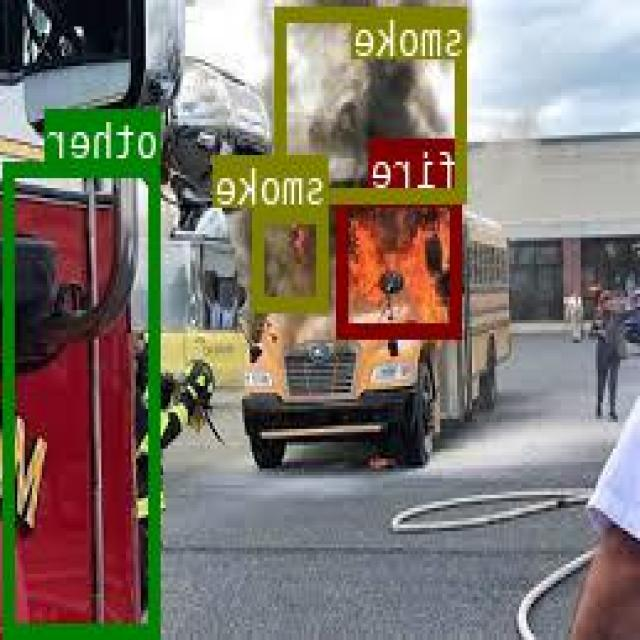fire: (339, 190, 463, 334)
other: (7, 161, 162, 633)
smoke: (278, 6, 468, 200), (255, 205, 329, 310)
